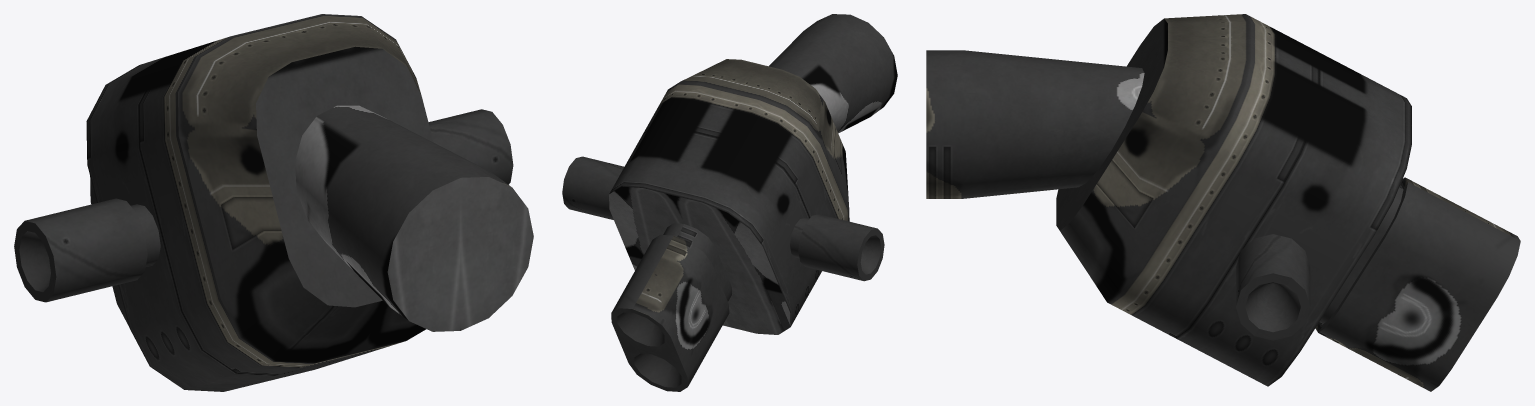
Rendered from rcs_30.fbx.
3 renders of one model, left to right at view 1: azimuth 30°, elevation 25°; view 2: azimuth 150°, elevation 25°; view 3: azimuth 270°, elevation 25°, orthographic. The views are drawn at different scales.
Visible parts, largest first — view 1: mesh; view 2: mesh; view 3: mesh.
Boxes of the visible parts, <box> form: mesh: <box>14,14,533,391</box>; mesh: <box>562,14,897,391</box>; mesh: <box>926,14,1520,391</box>.
Size of the model in its own units: 0.3125 by 0.2597 by 0.3998.
